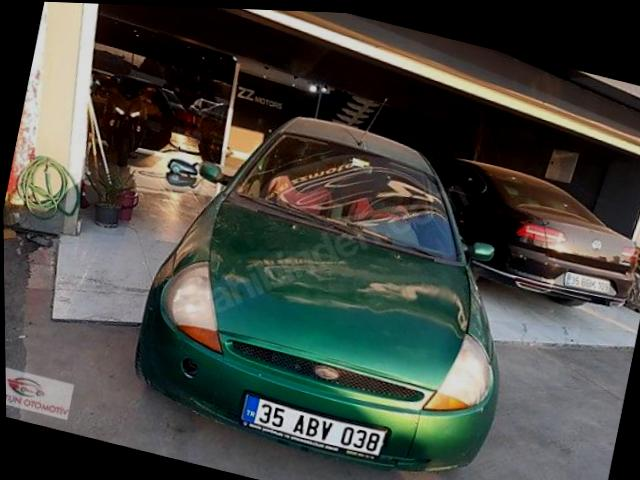plaka: (239, 395, 385, 455)
